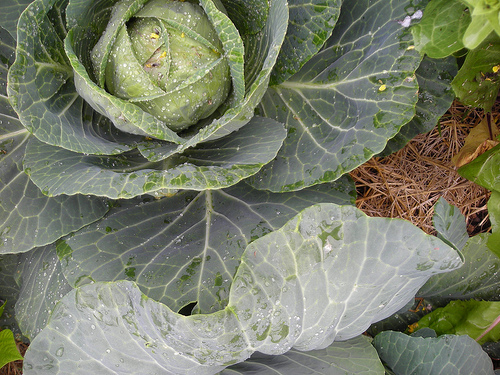cabbage: (0, 0, 423, 344)
